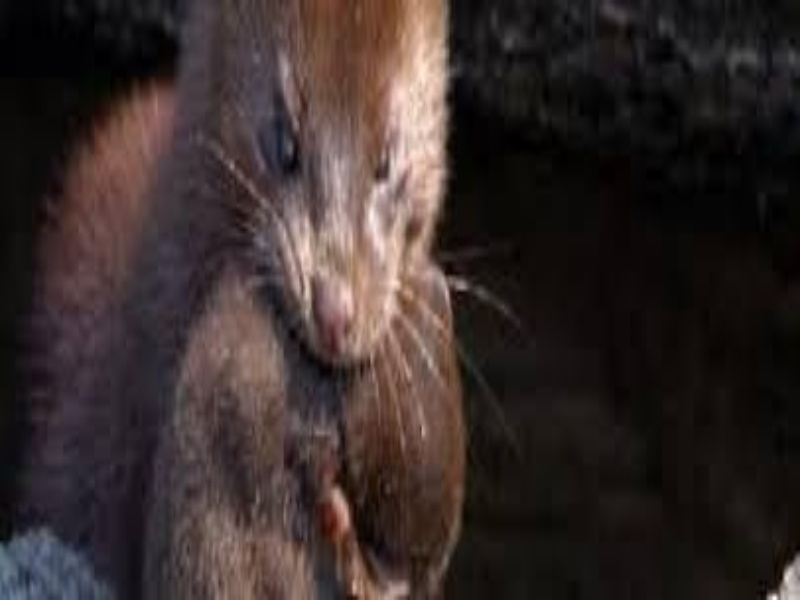minkish: (41, 1, 452, 530)
